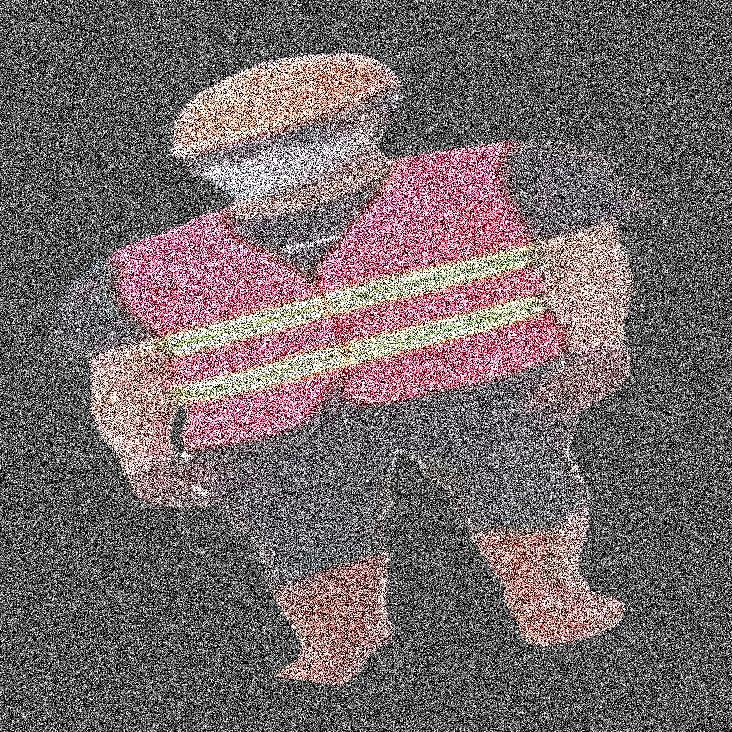Pessoa: (232, 0, 580, 731)
